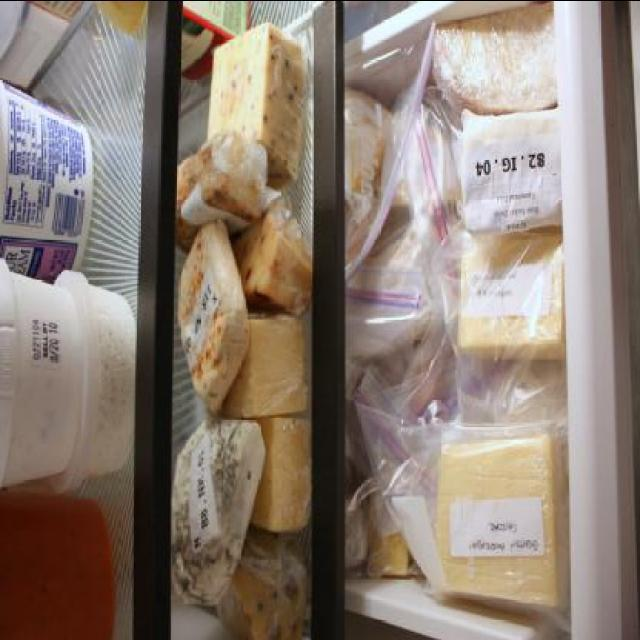Cheese: (169, 14, 311, 640), (433, 426, 569, 608), (453, 224, 562, 364), (430, 12, 552, 110), (455, 113, 557, 225)
